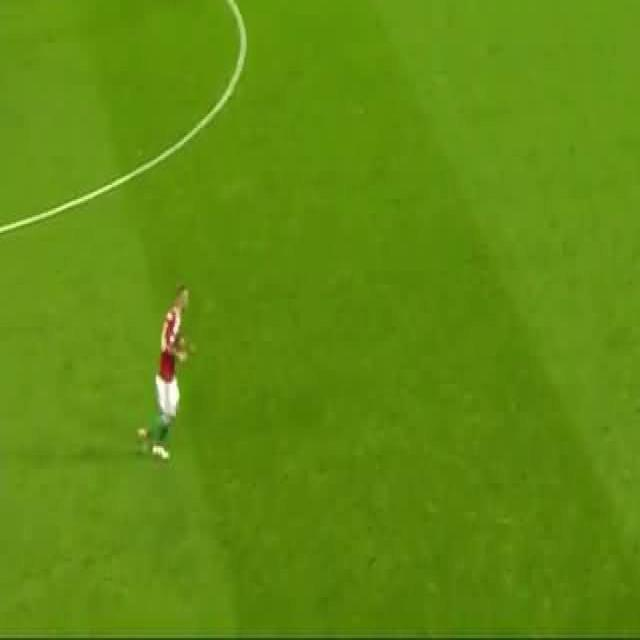player-white: (136, 284, 194, 462)
